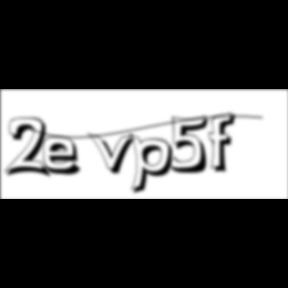2: (5, 117, 55, 181)
5: (168, 114, 216, 176)
e: (43, 135, 89, 178)
f: (208, 111, 242, 175)
p: (130, 132, 180, 198)
v: (88, 131, 142, 177)
